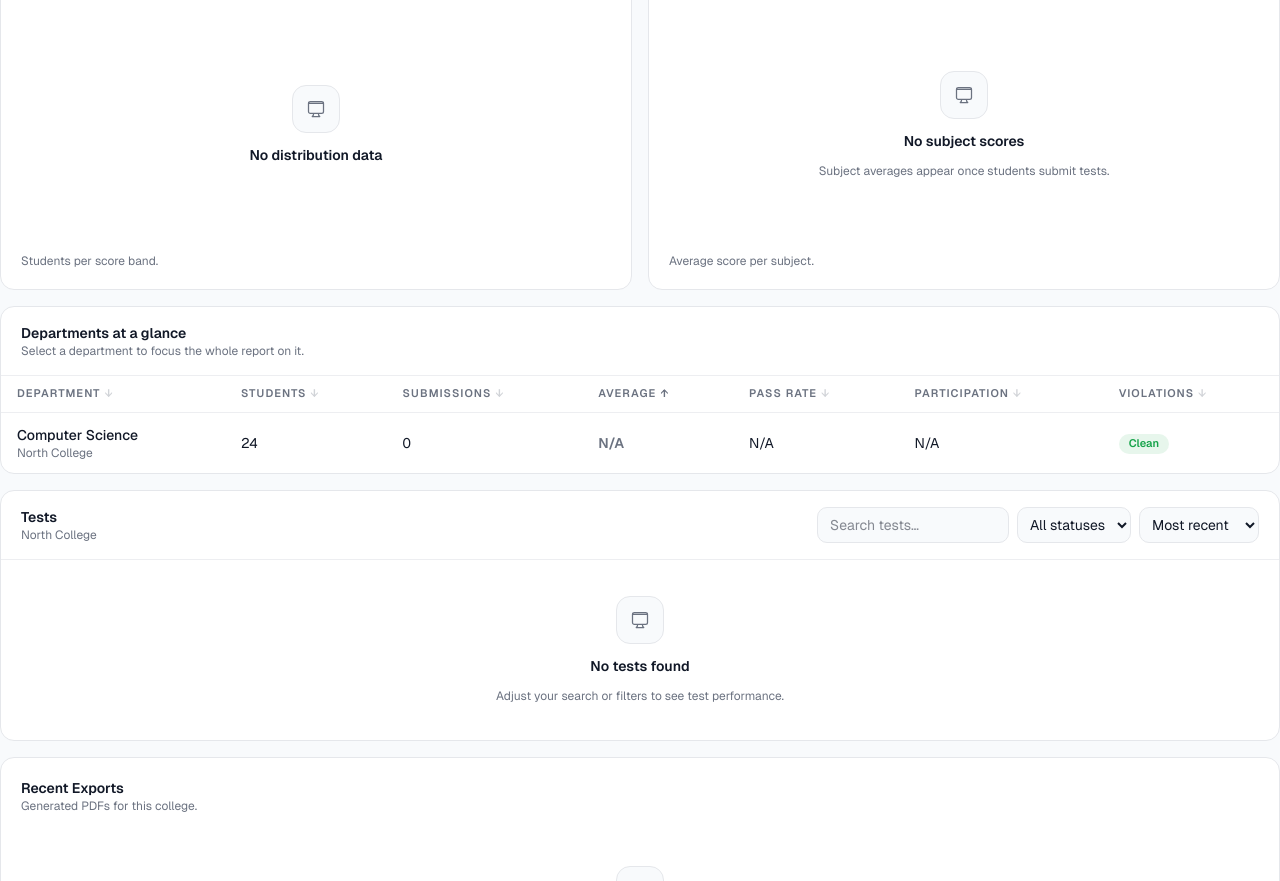
Test: Super Admin ReportsPage › drills from the overview department table into the Departments mode
(page scrolled)
Click the button with aria-label "Open department Computer Science": click(78, 435) [17,425,138,445]
(page scrolled)
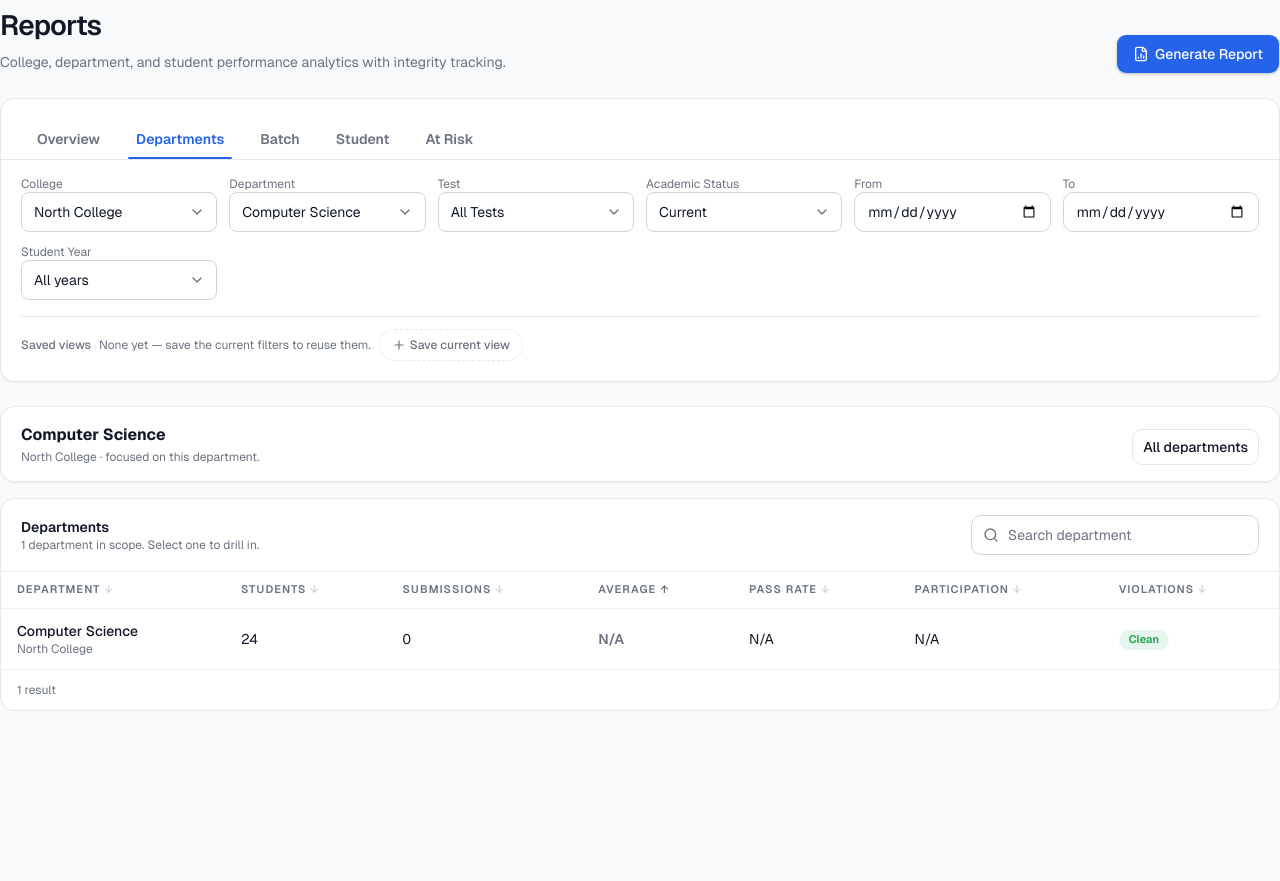
expect the button "All departments" is shown: met, box [1132,429,1259,465]
